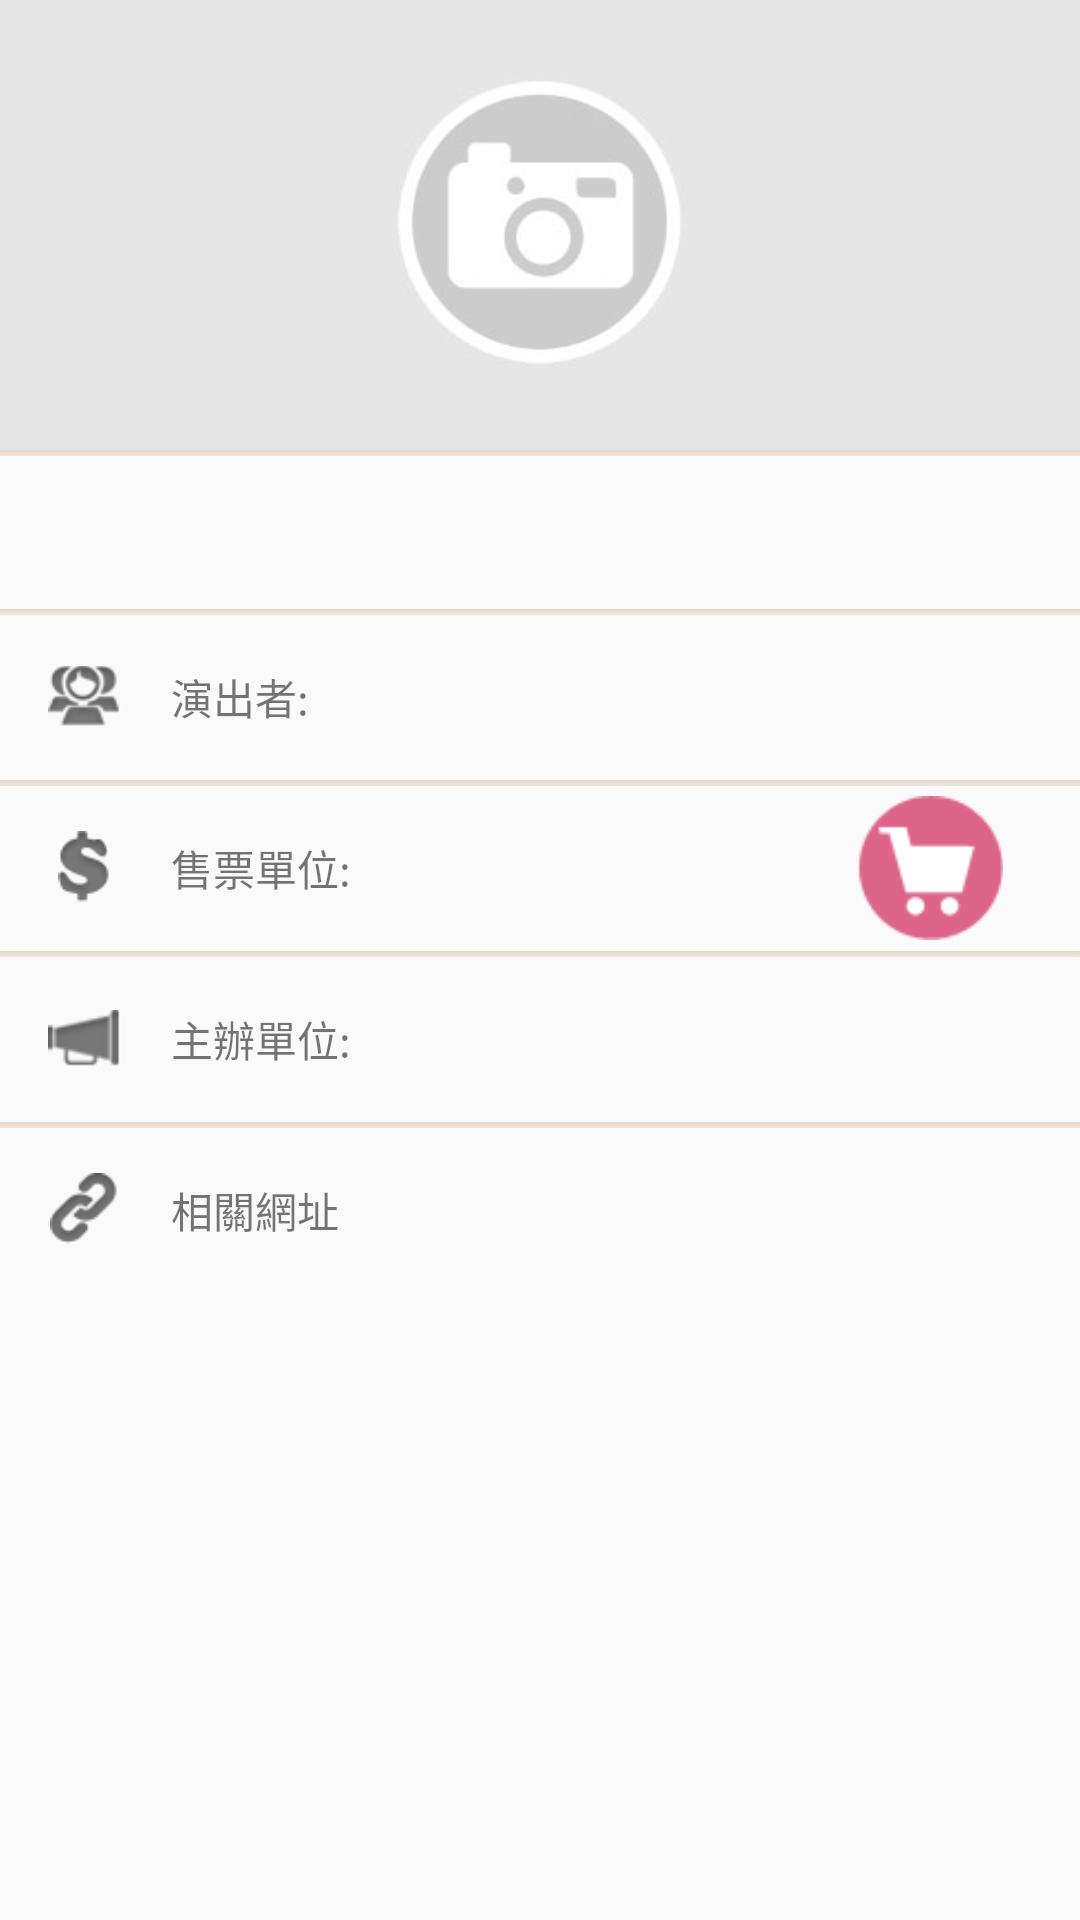

Named icons in this screenshot (1080x1920) and their centers, (x=x, y=y):
cart: (x=931, y=868)
detail link: (x=83, y=1207)
detail price: (x=83, y=866)
detail show org: (x=83, y=696)
